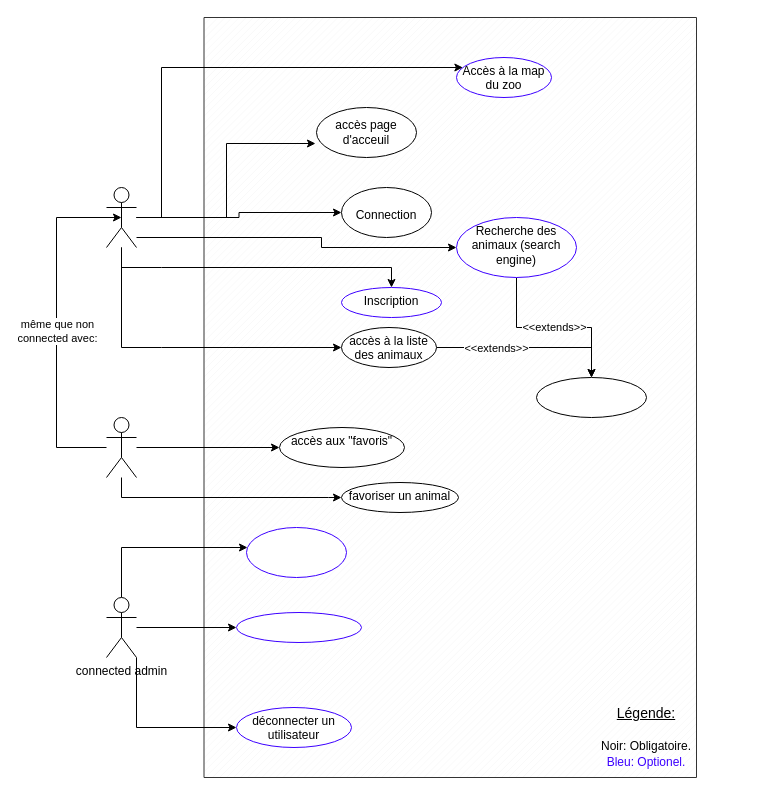
Some shapes in this 759 by 805 pixel diagram are drawn without their labels. The shapes that lost their labels are listed below. From the top down, each one's centre as x and y in pixels, then its label:
At (121,217): "Non Connected".
At (591,397): "cliquer sur un animal pour détails".
At (121,447): "connected user".
At (296,552): "accès à admin pannel".
At (299,627): "Ajouter un animal".
